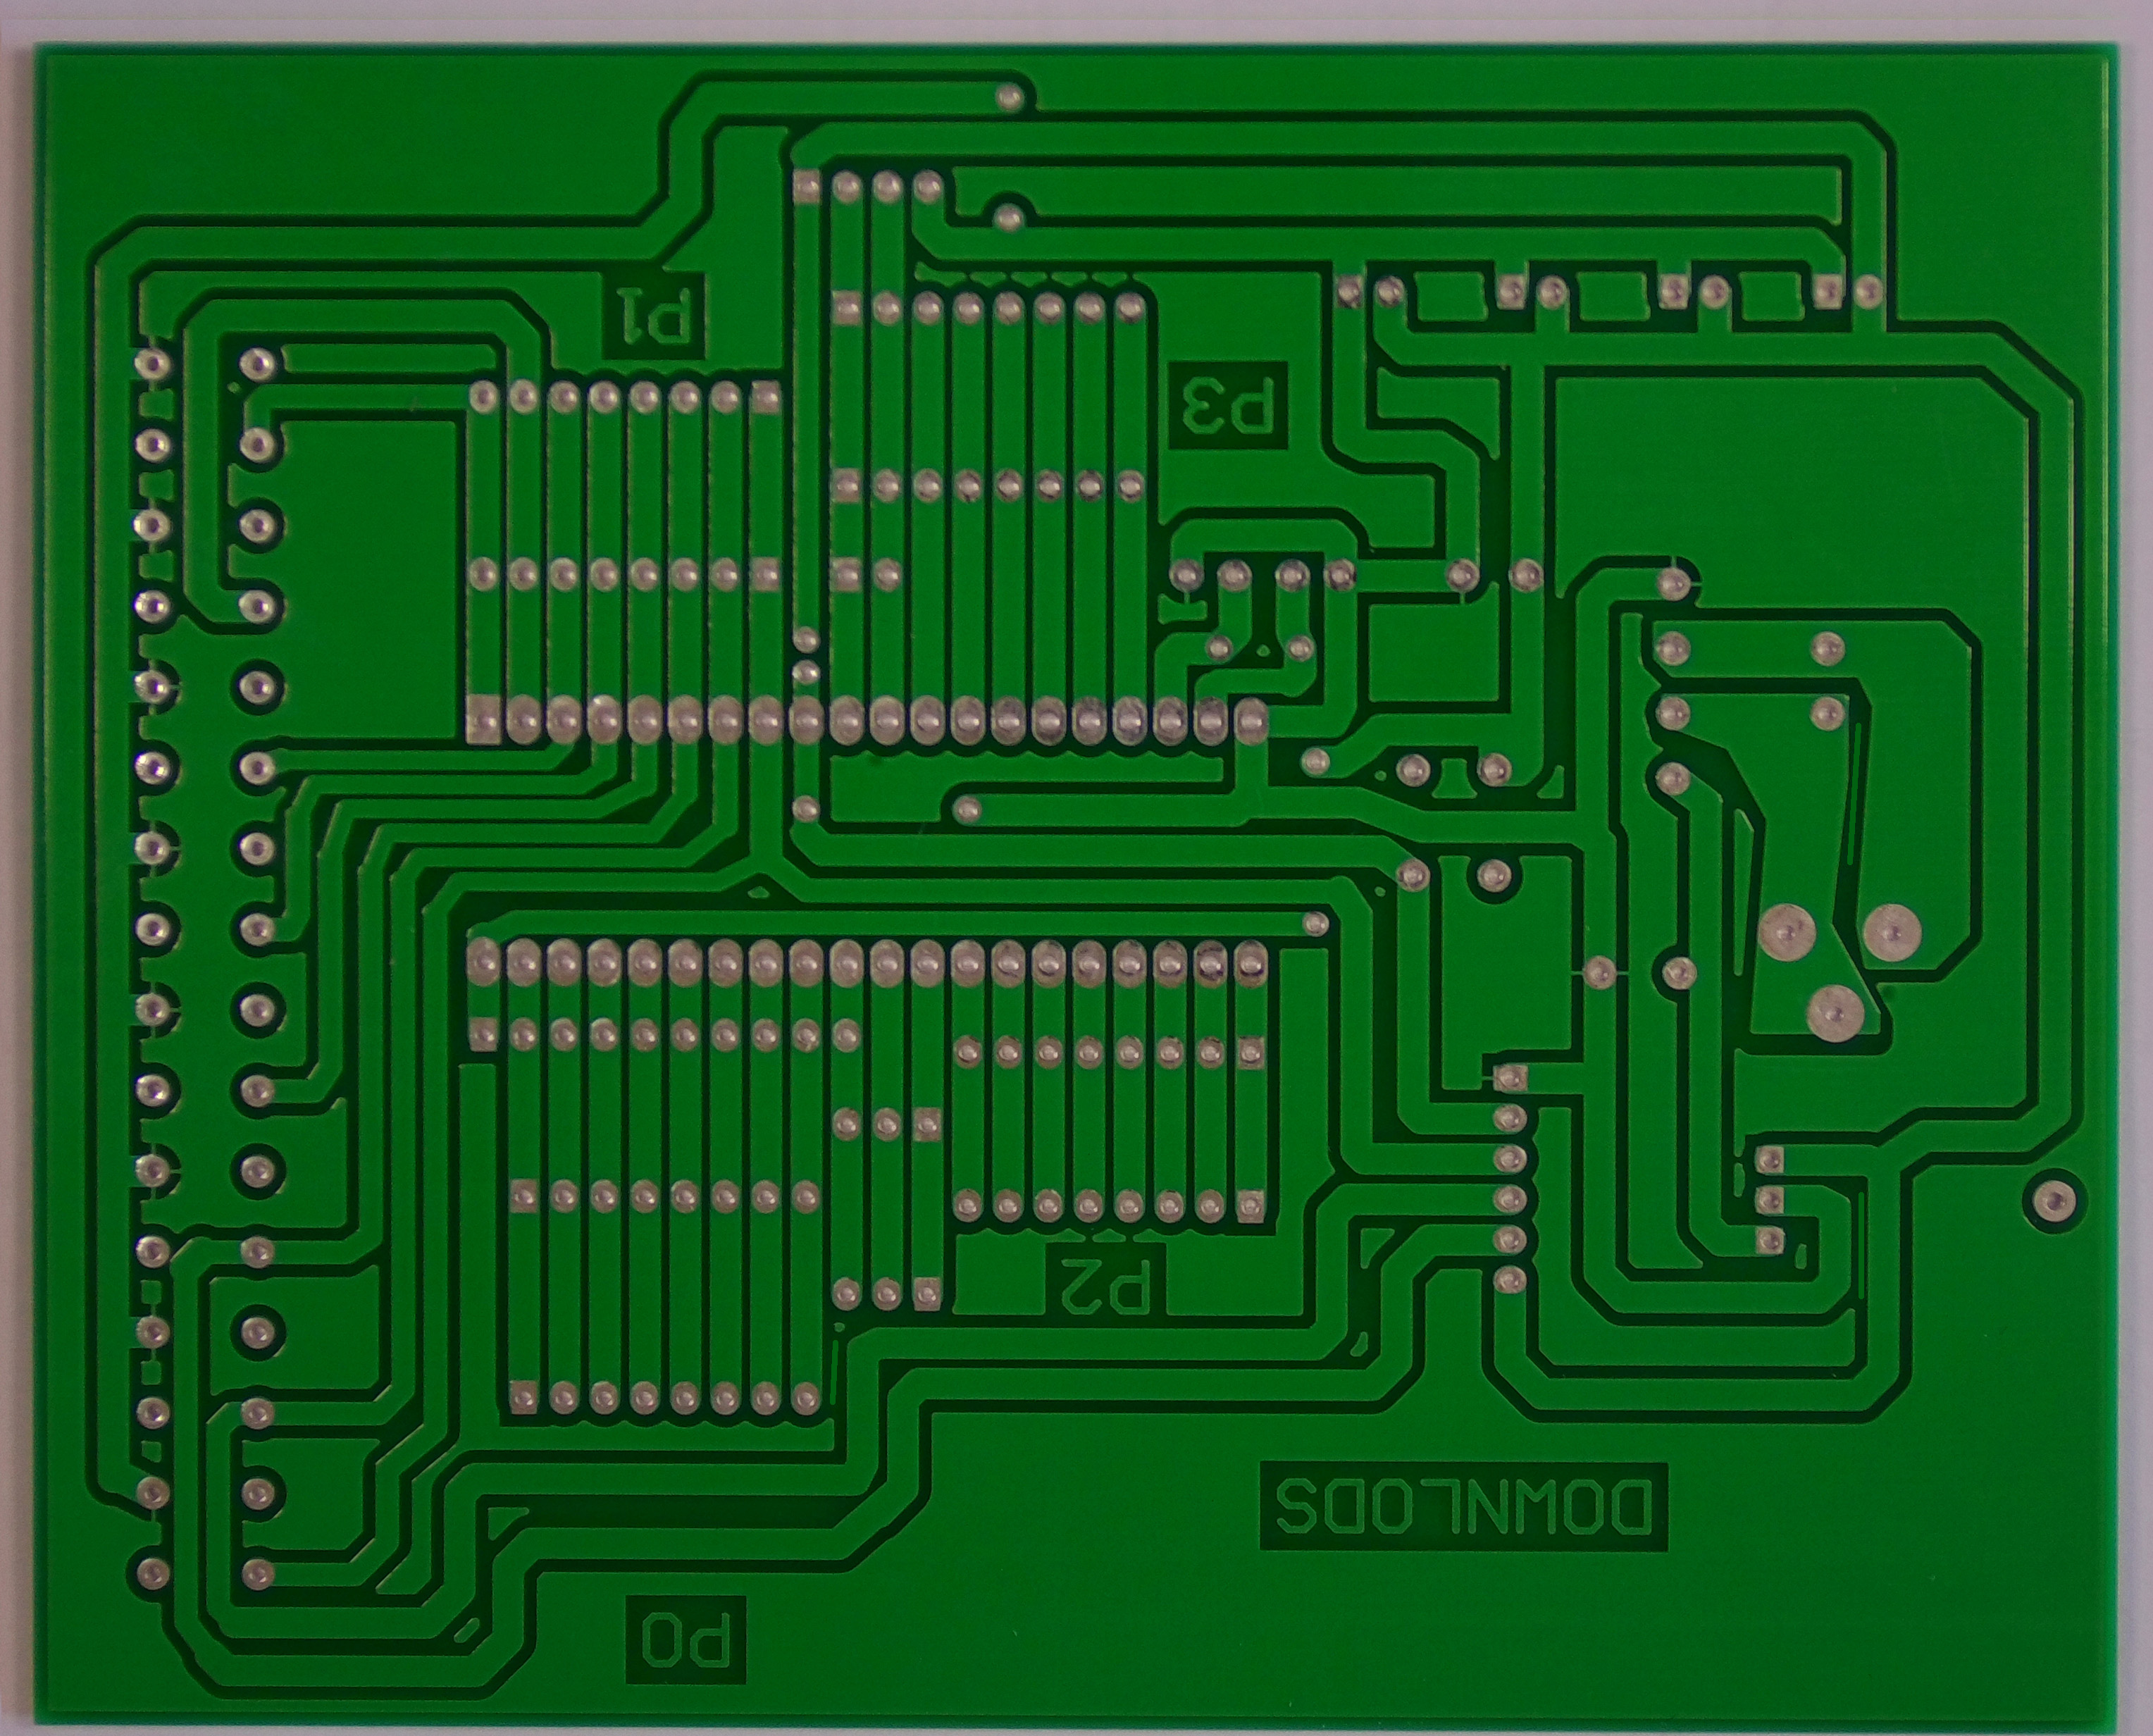spurious_copper: (1838, 719, 1878, 870), (1849, 1186, 1872, 1302), (823, 1337, 848, 1410)
